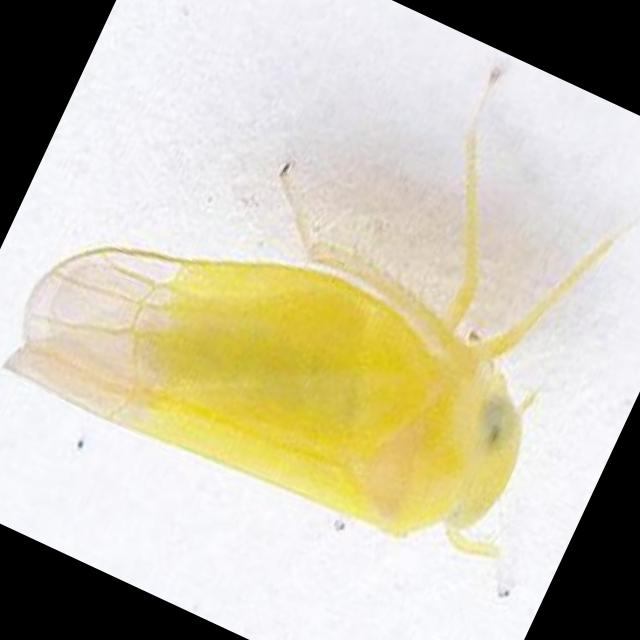green-leafhopper: (0, 143, 583, 605)
